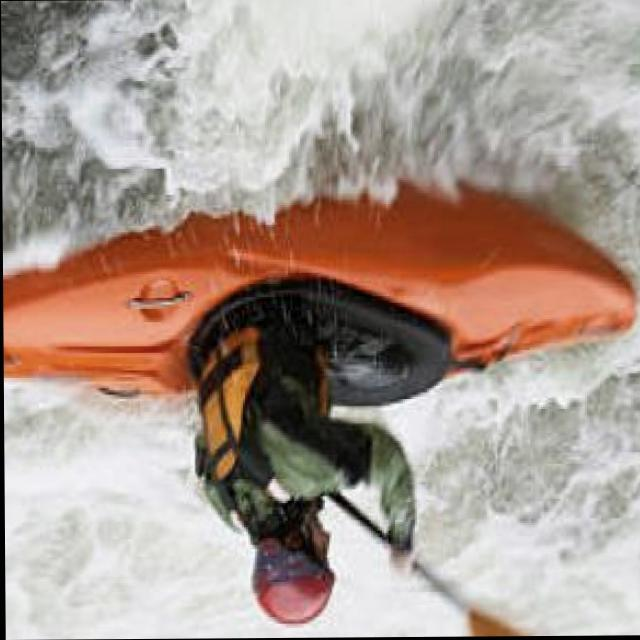kayak: (2, 200, 628, 394)
